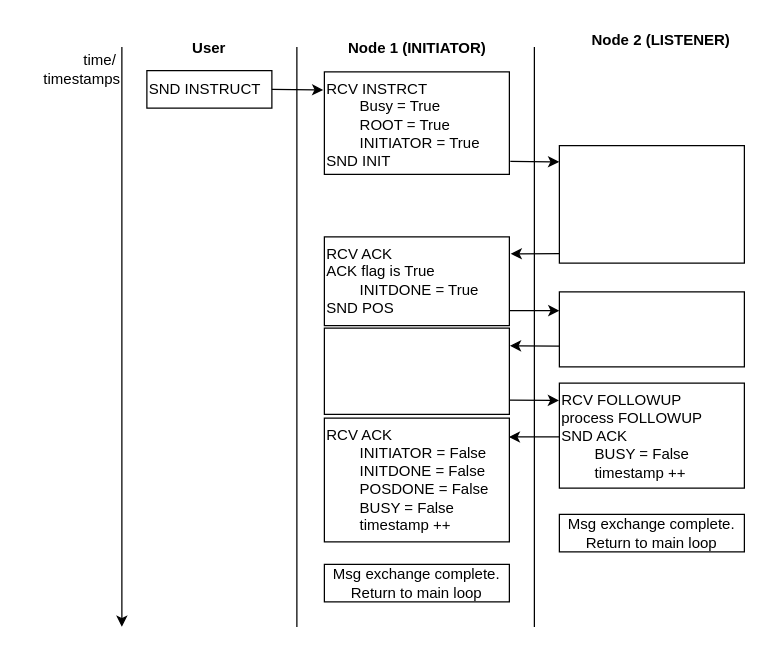
Some shapes in this 766 by 659 pixel diagram are drawn without their labels. Each missing label, with the centre of its shape:
"RCV ACK ACK flag is True POSDONE = True SND FOLLOWUP" belongs at point (416, 370).
"RCV INIT BUSY = True INITIATOR = False ACCEPT communication request SND ACK" belongs at point (651, 203).
"RCV POS process POS -> RSPA SND ACK" belongs at point (651, 329).
